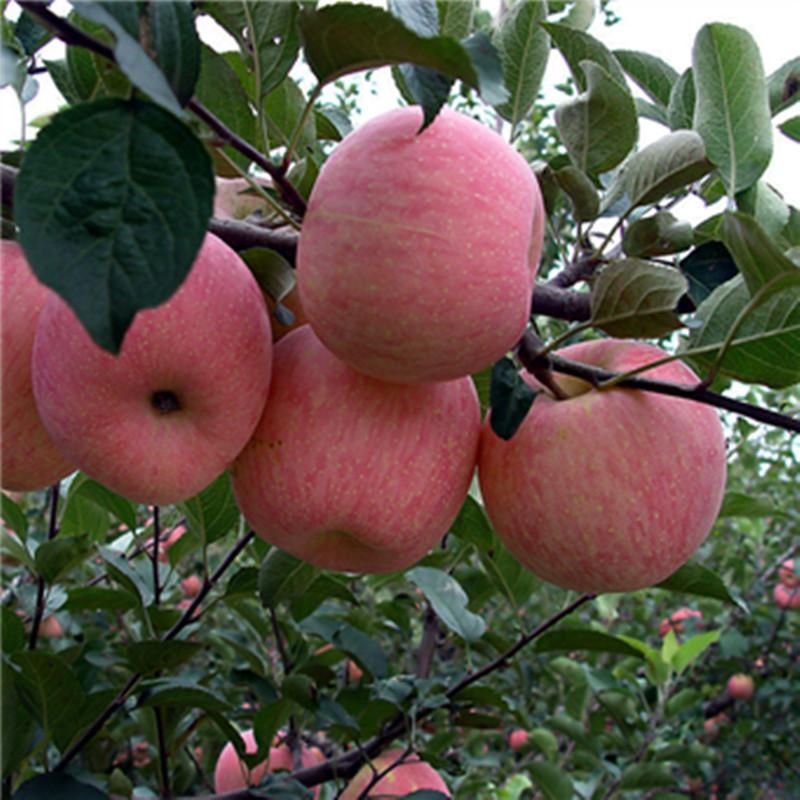apple: (301, 105, 552, 383), (474, 336, 728, 598), (33, 238, 275, 512), (229, 320, 477, 568)
